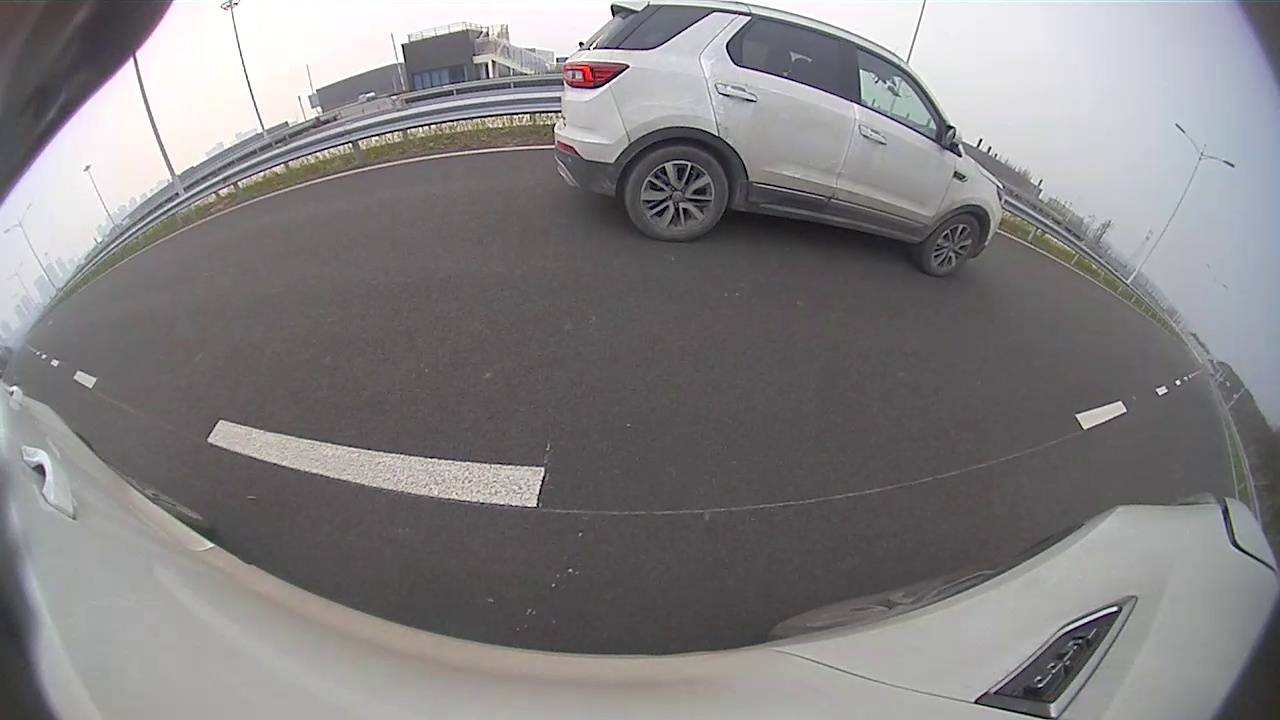car: (553, 3, 1005, 277)
front: (922, 216, 983, 277)
rear: (628, 148, 730, 242)
